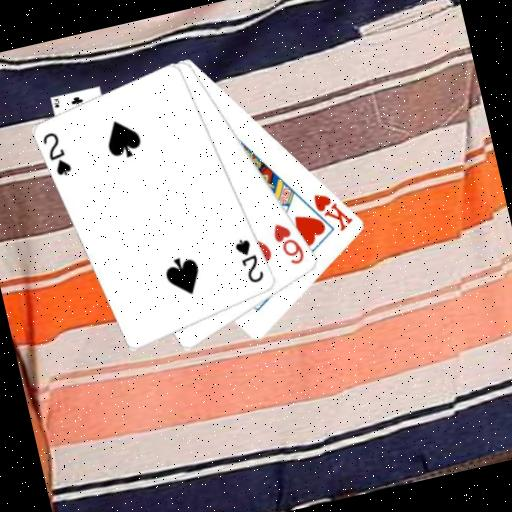2S: (231, 233, 267, 288), (39, 127, 75, 181)
6H: (268, 217, 308, 271)
KH: (310, 184, 358, 238)
